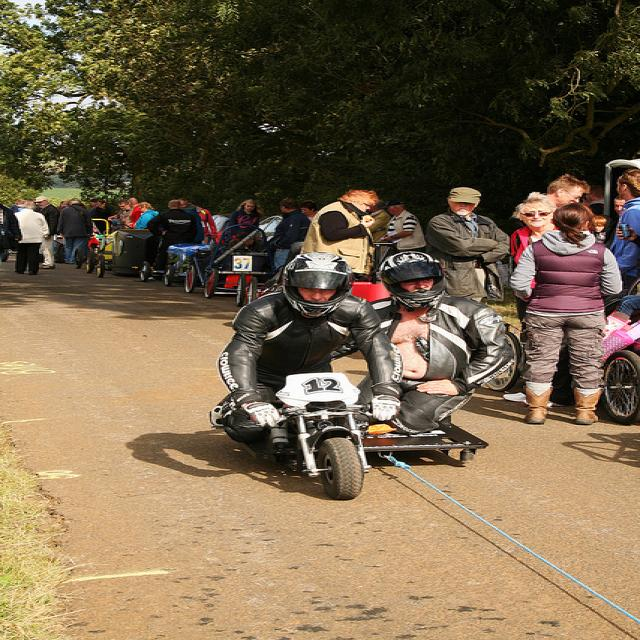motor: (261, 371, 372, 500), (602, 340, 640, 423)
